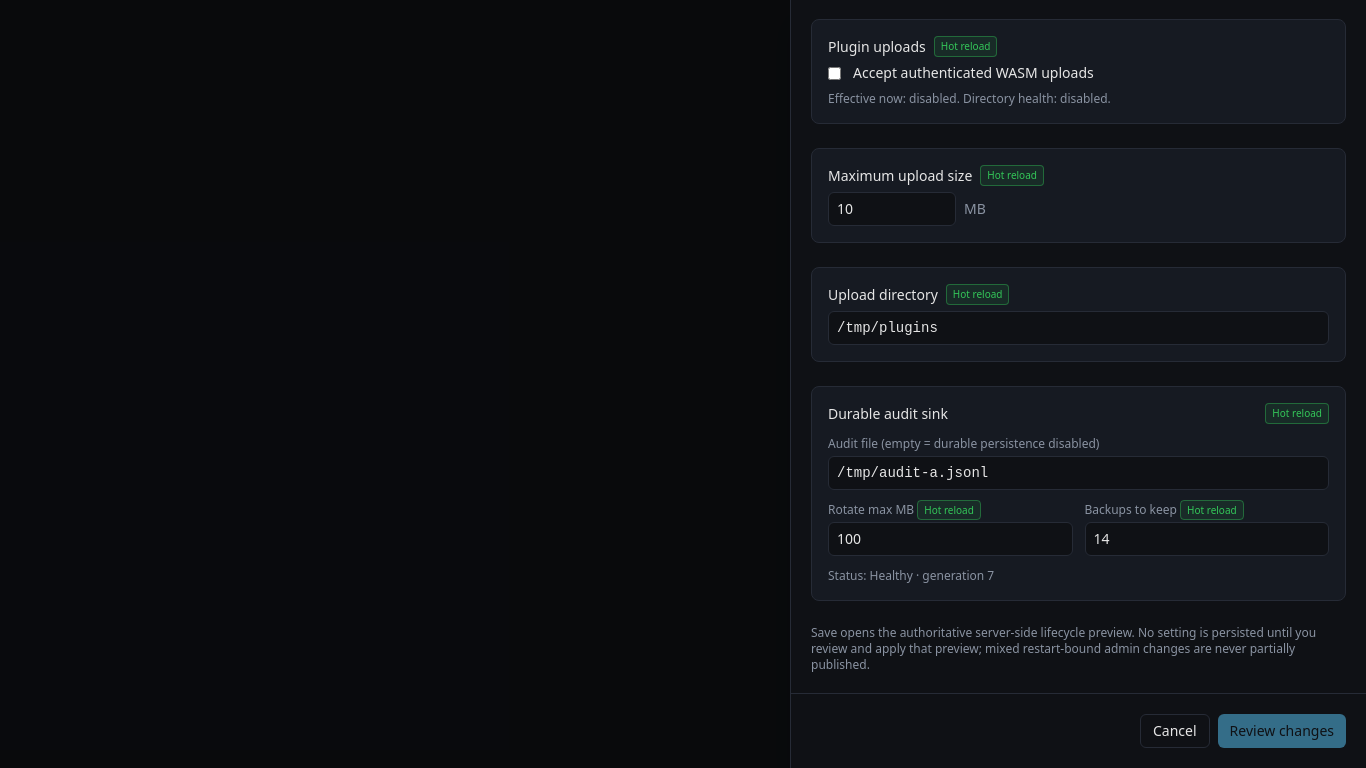
it: AdminRuntimeSettingsDrawer HR-07C audit sink › validates rotation values and exposes lifecycle badges for all three fields
(page scrolled)
Expected: the text "Durable audit sink" is shown, [828,404,948,424]
Replace the text in the number field labelled "Rotate max MB Hot reload" with "1.5" at (950, 539), box [828,522,1072,556]
(page scrolled)
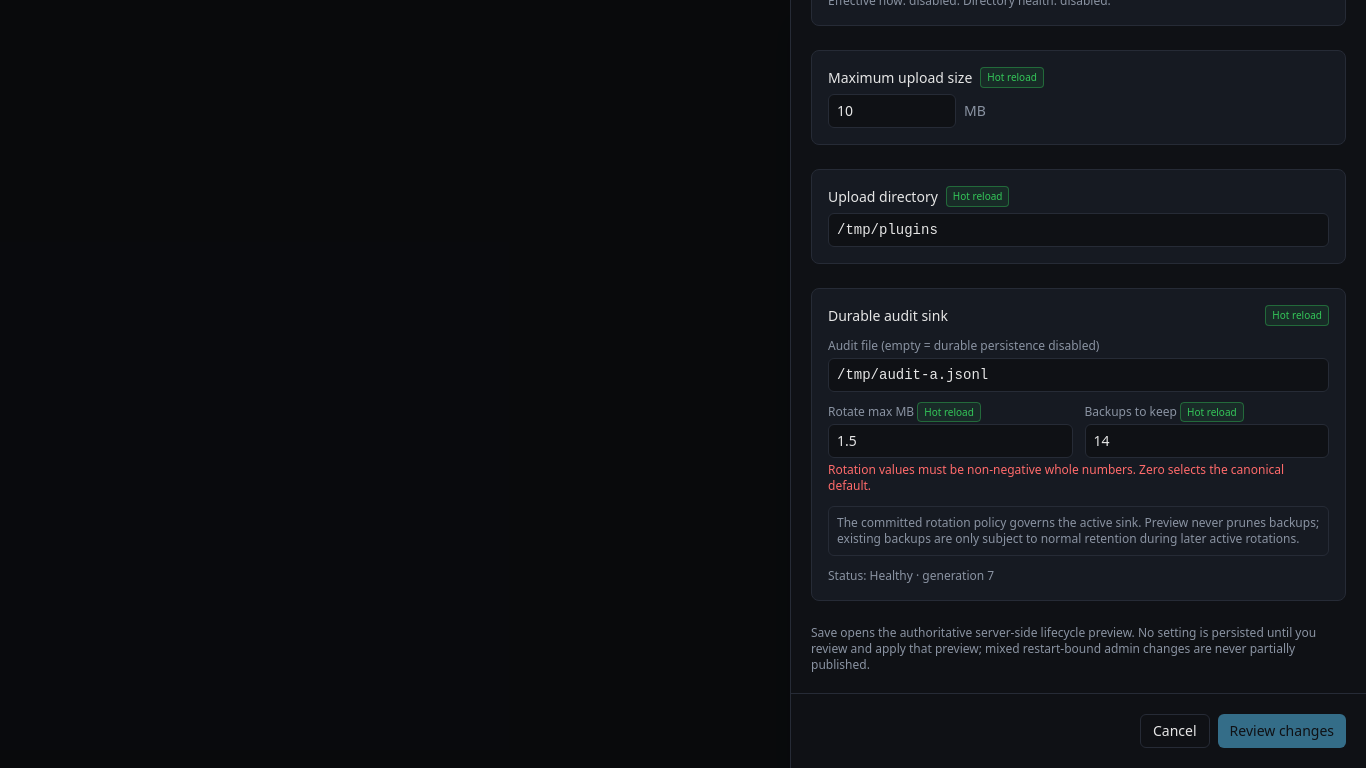
Expected: the button "Review changes" is disabled, [1218,714,1346,748]
Expected: the text "Rotation values must be non-negative whole numbers" is shown, [828,461,1284,494]
